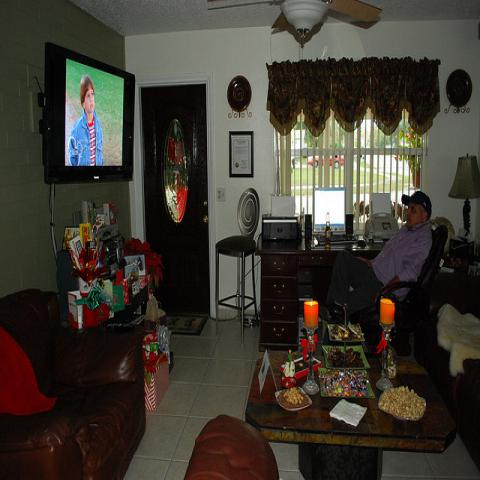car: (306, 155, 344, 169)
